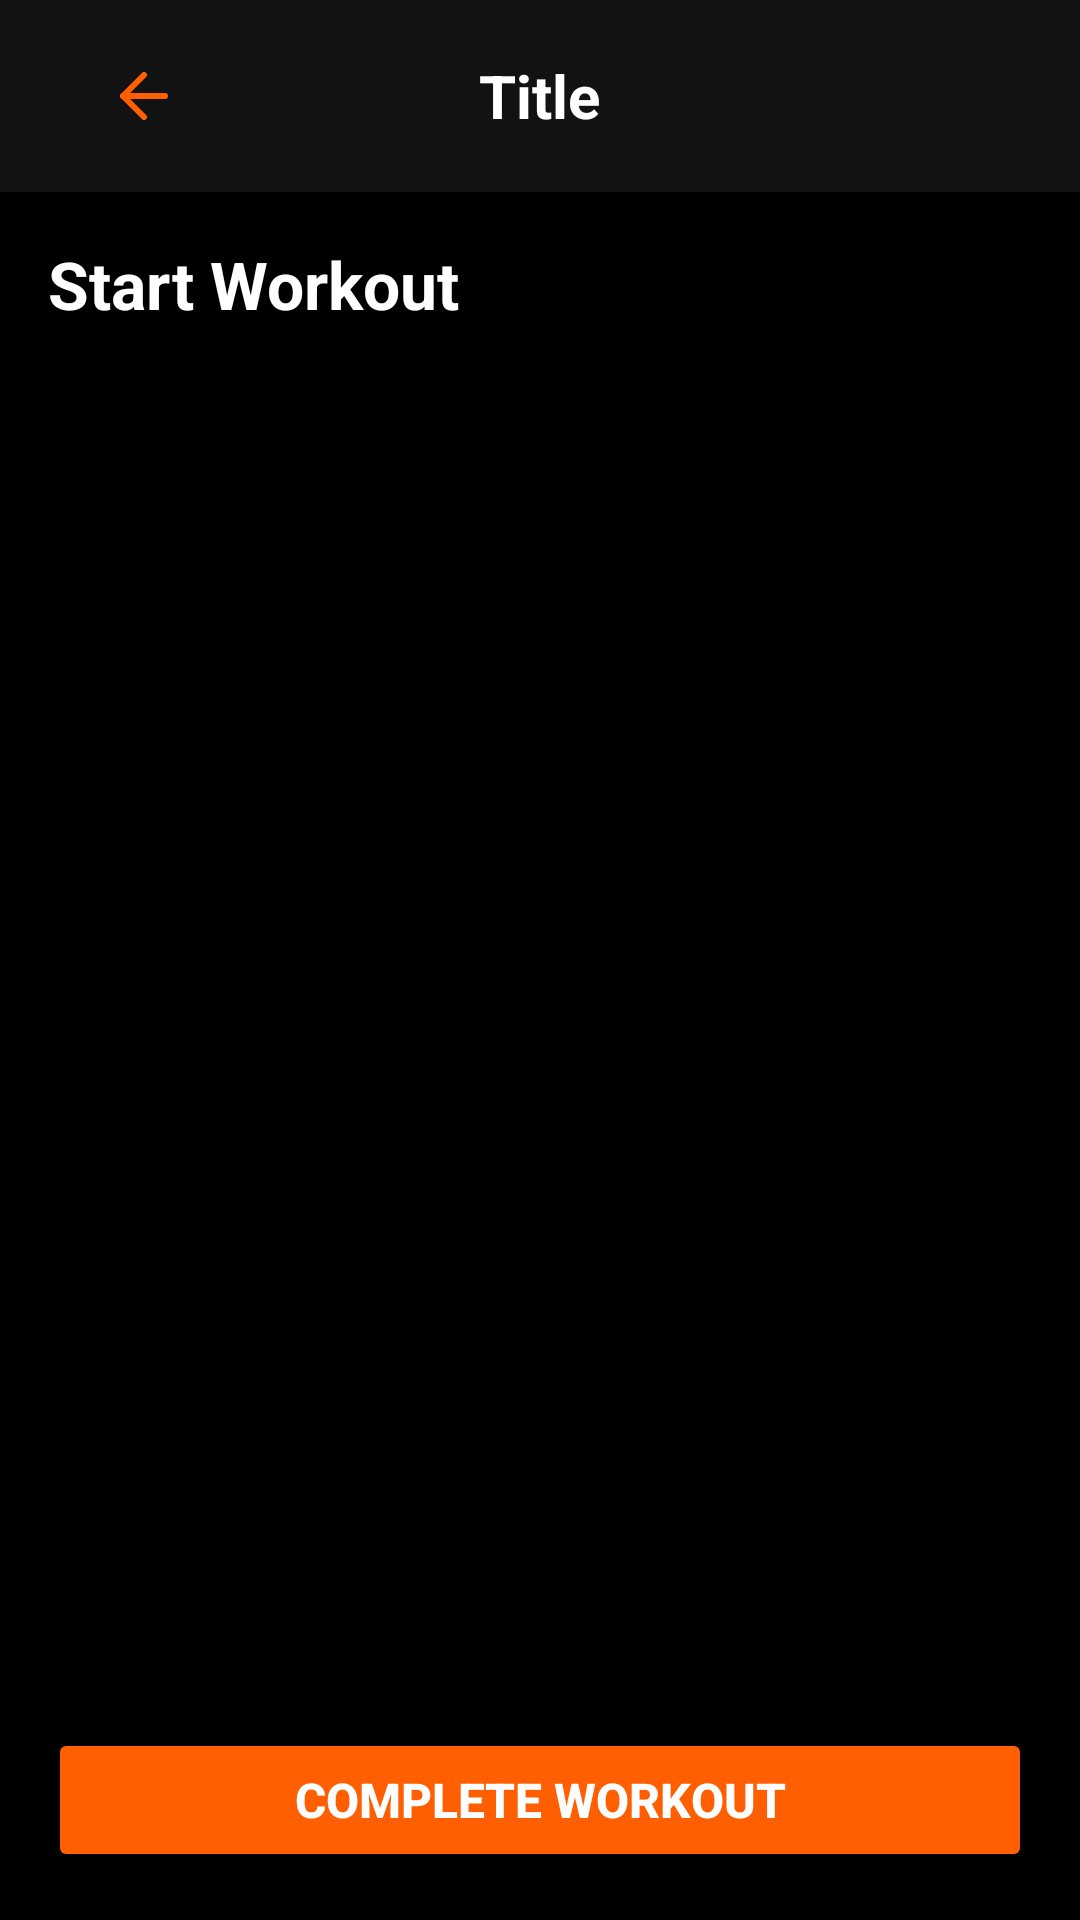

Where to tap for icons on this 1080 x 1920 app screen, as point (x, y):
go back: point (144, 96)
